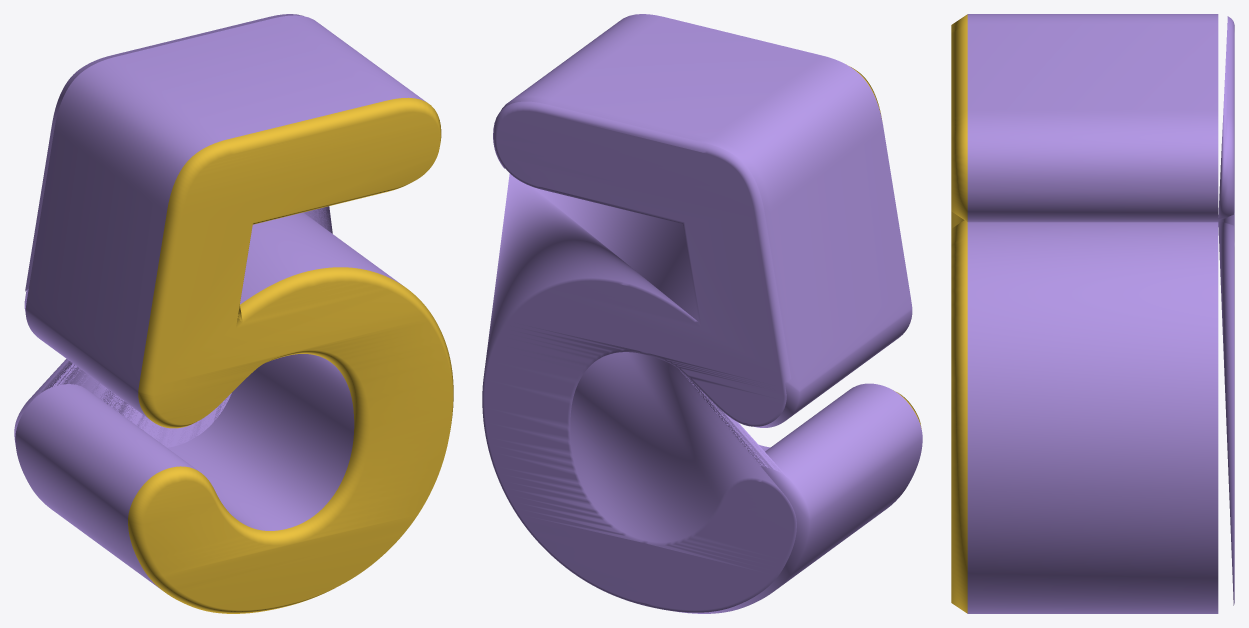
3 renders of one model, left to right at view 1: azimuth 30°, elevation 25°; view 2: azimuth 150°, elevation 25°; view 3: azimuth 270°, elevation 25°, orthographic. The views are drawn at different scales.
Visible parts, largest first — view 1: Lima 3D; view 2: Lima 3D; view 3: Lima 3D.
Boxes of the visible parts, bbox=[...] form: Lima 3D: bbox=[14, 14, 453, 613]; Lima 3D: bbox=[482, 14, 922, 613]; Lima 3D: bbox=[951, 14, 1234, 613].
Size of the model in its own units: 115 by 162 by 77.6.
